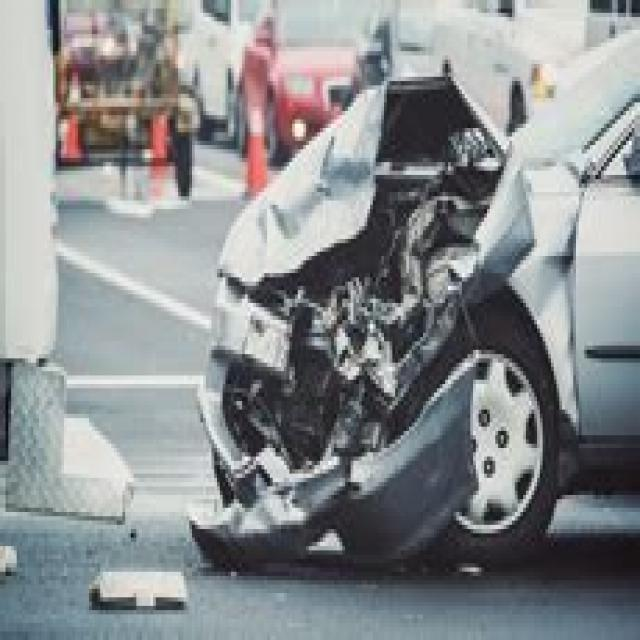Accident: (202, 99, 583, 564)
